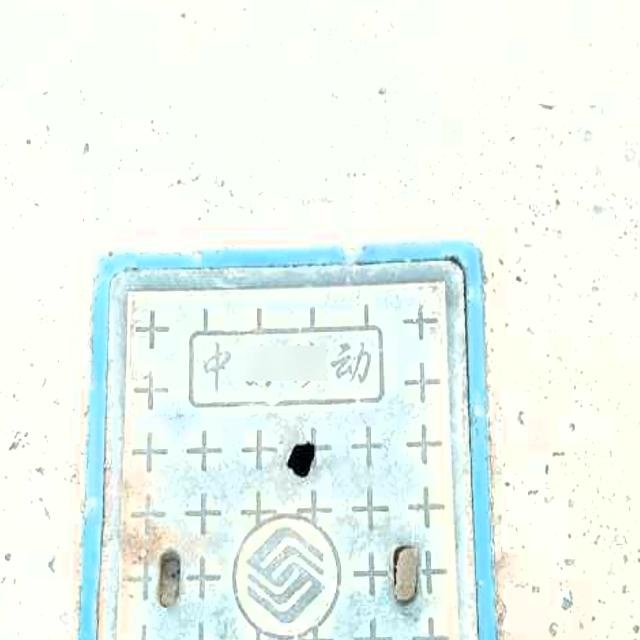broke: (73, 242, 508, 640)
